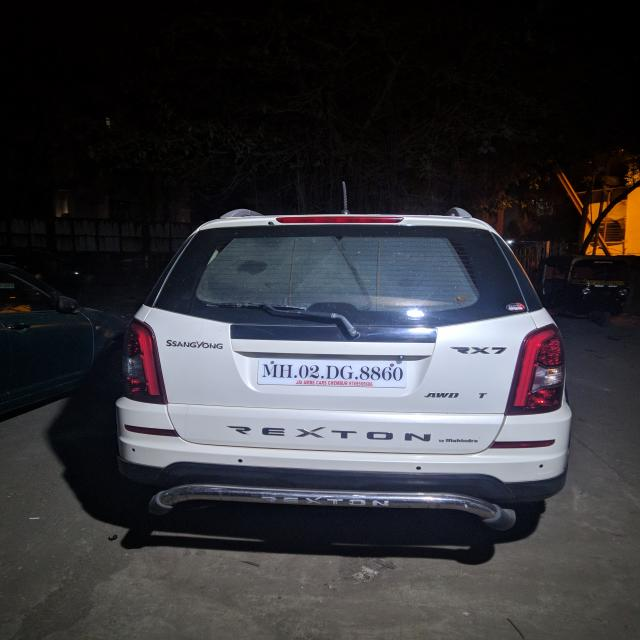Number-Plate: (261, 360, 406, 386)
